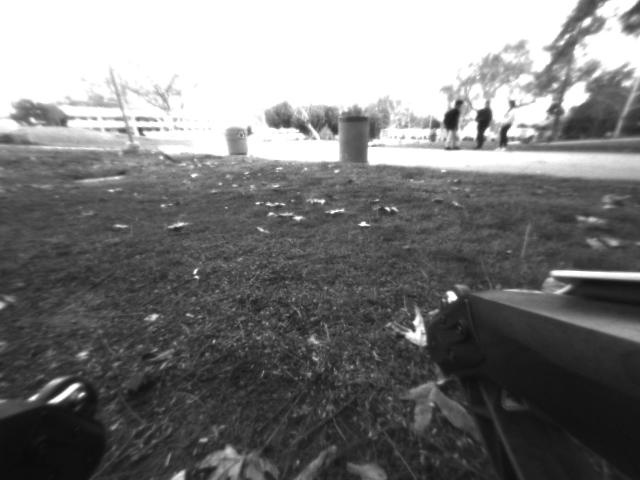trashcan: (336, 115, 371, 165), (225, 124, 252, 161)
